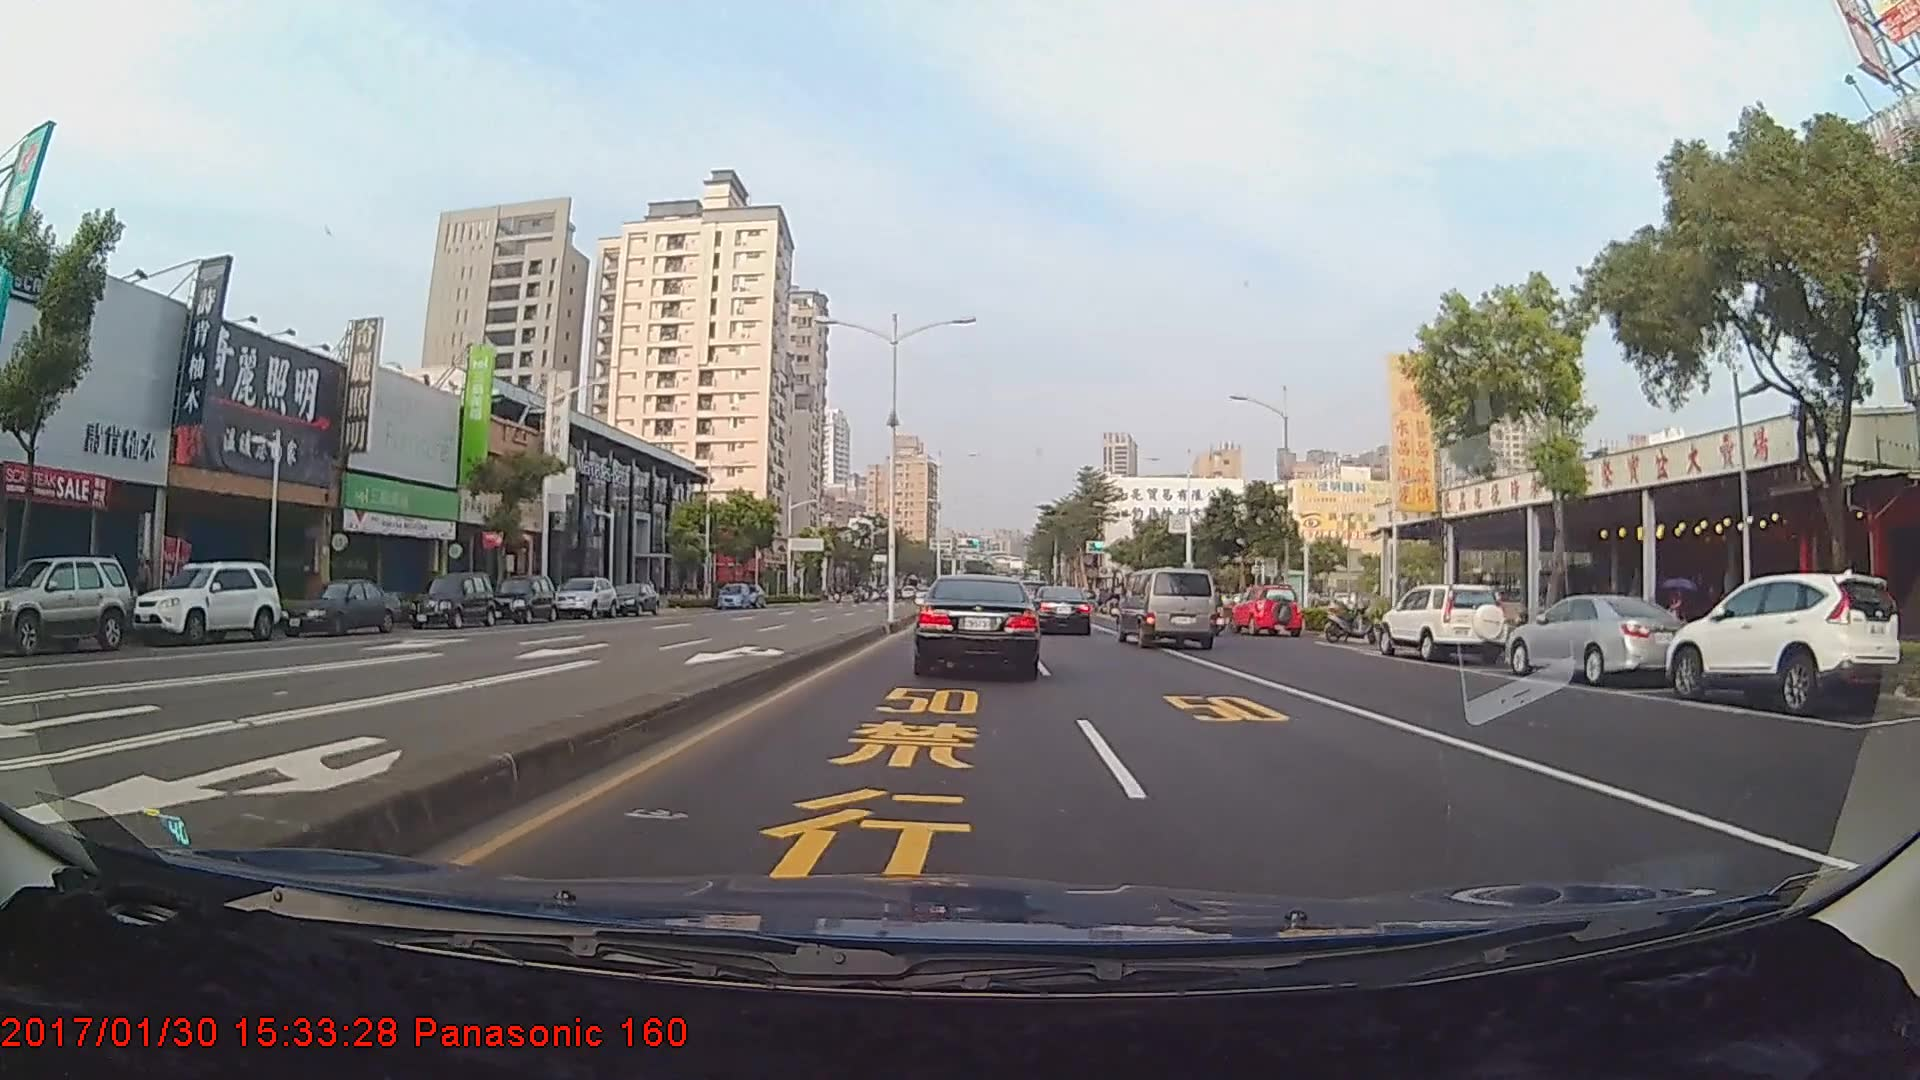vehicle: (1663, 570, 1902, 716), (1505, 591, 1691, 686), (914, 571, 1039, 678), (0, 555, 131, 655), (131, 560, 280, 645), (1375, 582, 1510, 661), (1116, 567, 1217, 650), (274, 578, 402, 640), (405, 570, 496, 626), (1224, 583, 1303, 636), (487, 576, 558, 626), (1030, 585, 1093, 636), (553, 575, 618, 618), (603, 580, 659, 616), (715, 582, 749, 611)
